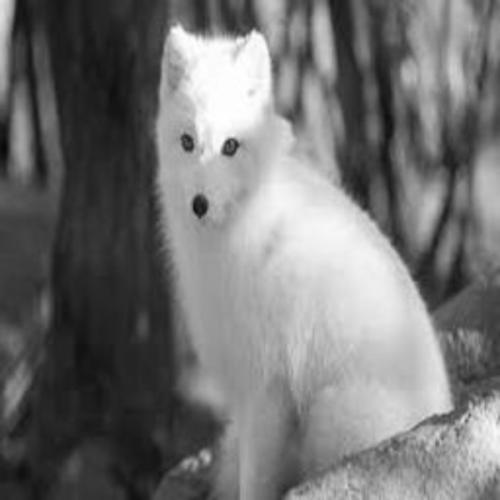arctic_fox-endangered: (154, 28, 453, 478)
